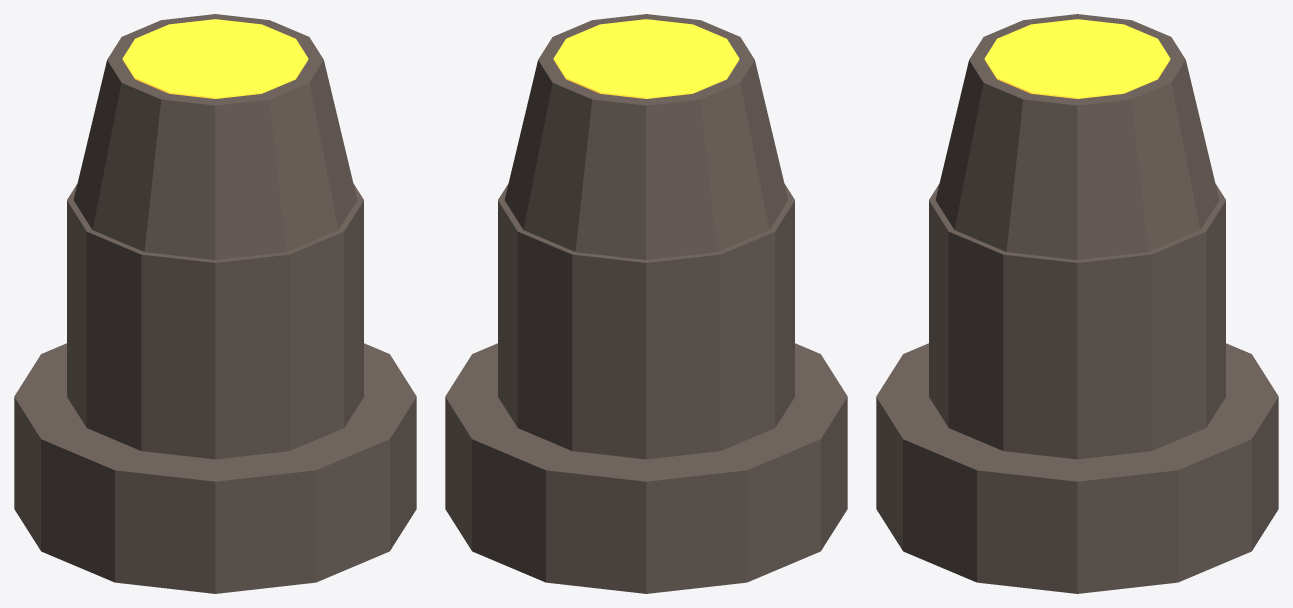
The model's file is prop-magma-vent.glb.
The picture shows the model from 3 angles, left to right: view 1: azimuth 30°, elevation 25°; view 2: azimuth 150°, elevation 25°; view 3: azimuth 270°, elevation 25°; orthographic projection.
Visible parts, largest first — view 1: Cylinder, Cylinder.001, Cone, Cylinder.002; view 2: Cylinder, Cylinder.001, Cone, Cylinder.002; view 3: Cylinder, Cylinder.001, Cone, Cylinder.002.
Part boxes in pixels (x1=…): Cylinder: x1=14, y1=343, x2=416, y2=593; Cylinder.001: x1=67, y1=184, x2=363, y2=459; Cone: x1=73, y1=14, x2=357, y2=259; Cylinder.002: x1=122, y1=19, x2=308, y2=98; Cylinder: x1=445, y1=343, x2=847, y2=593; Cylinder.001: x1=498, y1=184, x2=794, y2=459; Cone: x1=504, y1=14, x2=788, y2=259; Cylinder.002: x1=553, y1=19, x2=739, y2=98; Cylinder: x1=876, y1=343, x2=1278, y2=593; Cylinder.001: x1=929, y1=184, x2=1225, y2=459; Cone: x1=935, y1=14, x2=1219, y2=259; Cylinder.002: x1=984, y1=19, x2=1170, y2=98.
Size of the model in its own units: 1.3 by 1.61 by 1.3.
